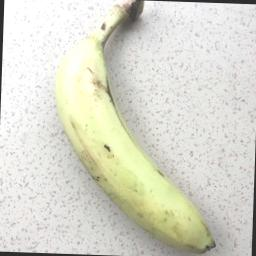Banana Ripe: (31, 22, 237, 256)
